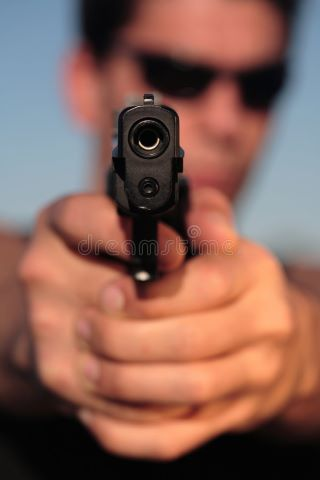knife: (100, 91, 181, 278)
